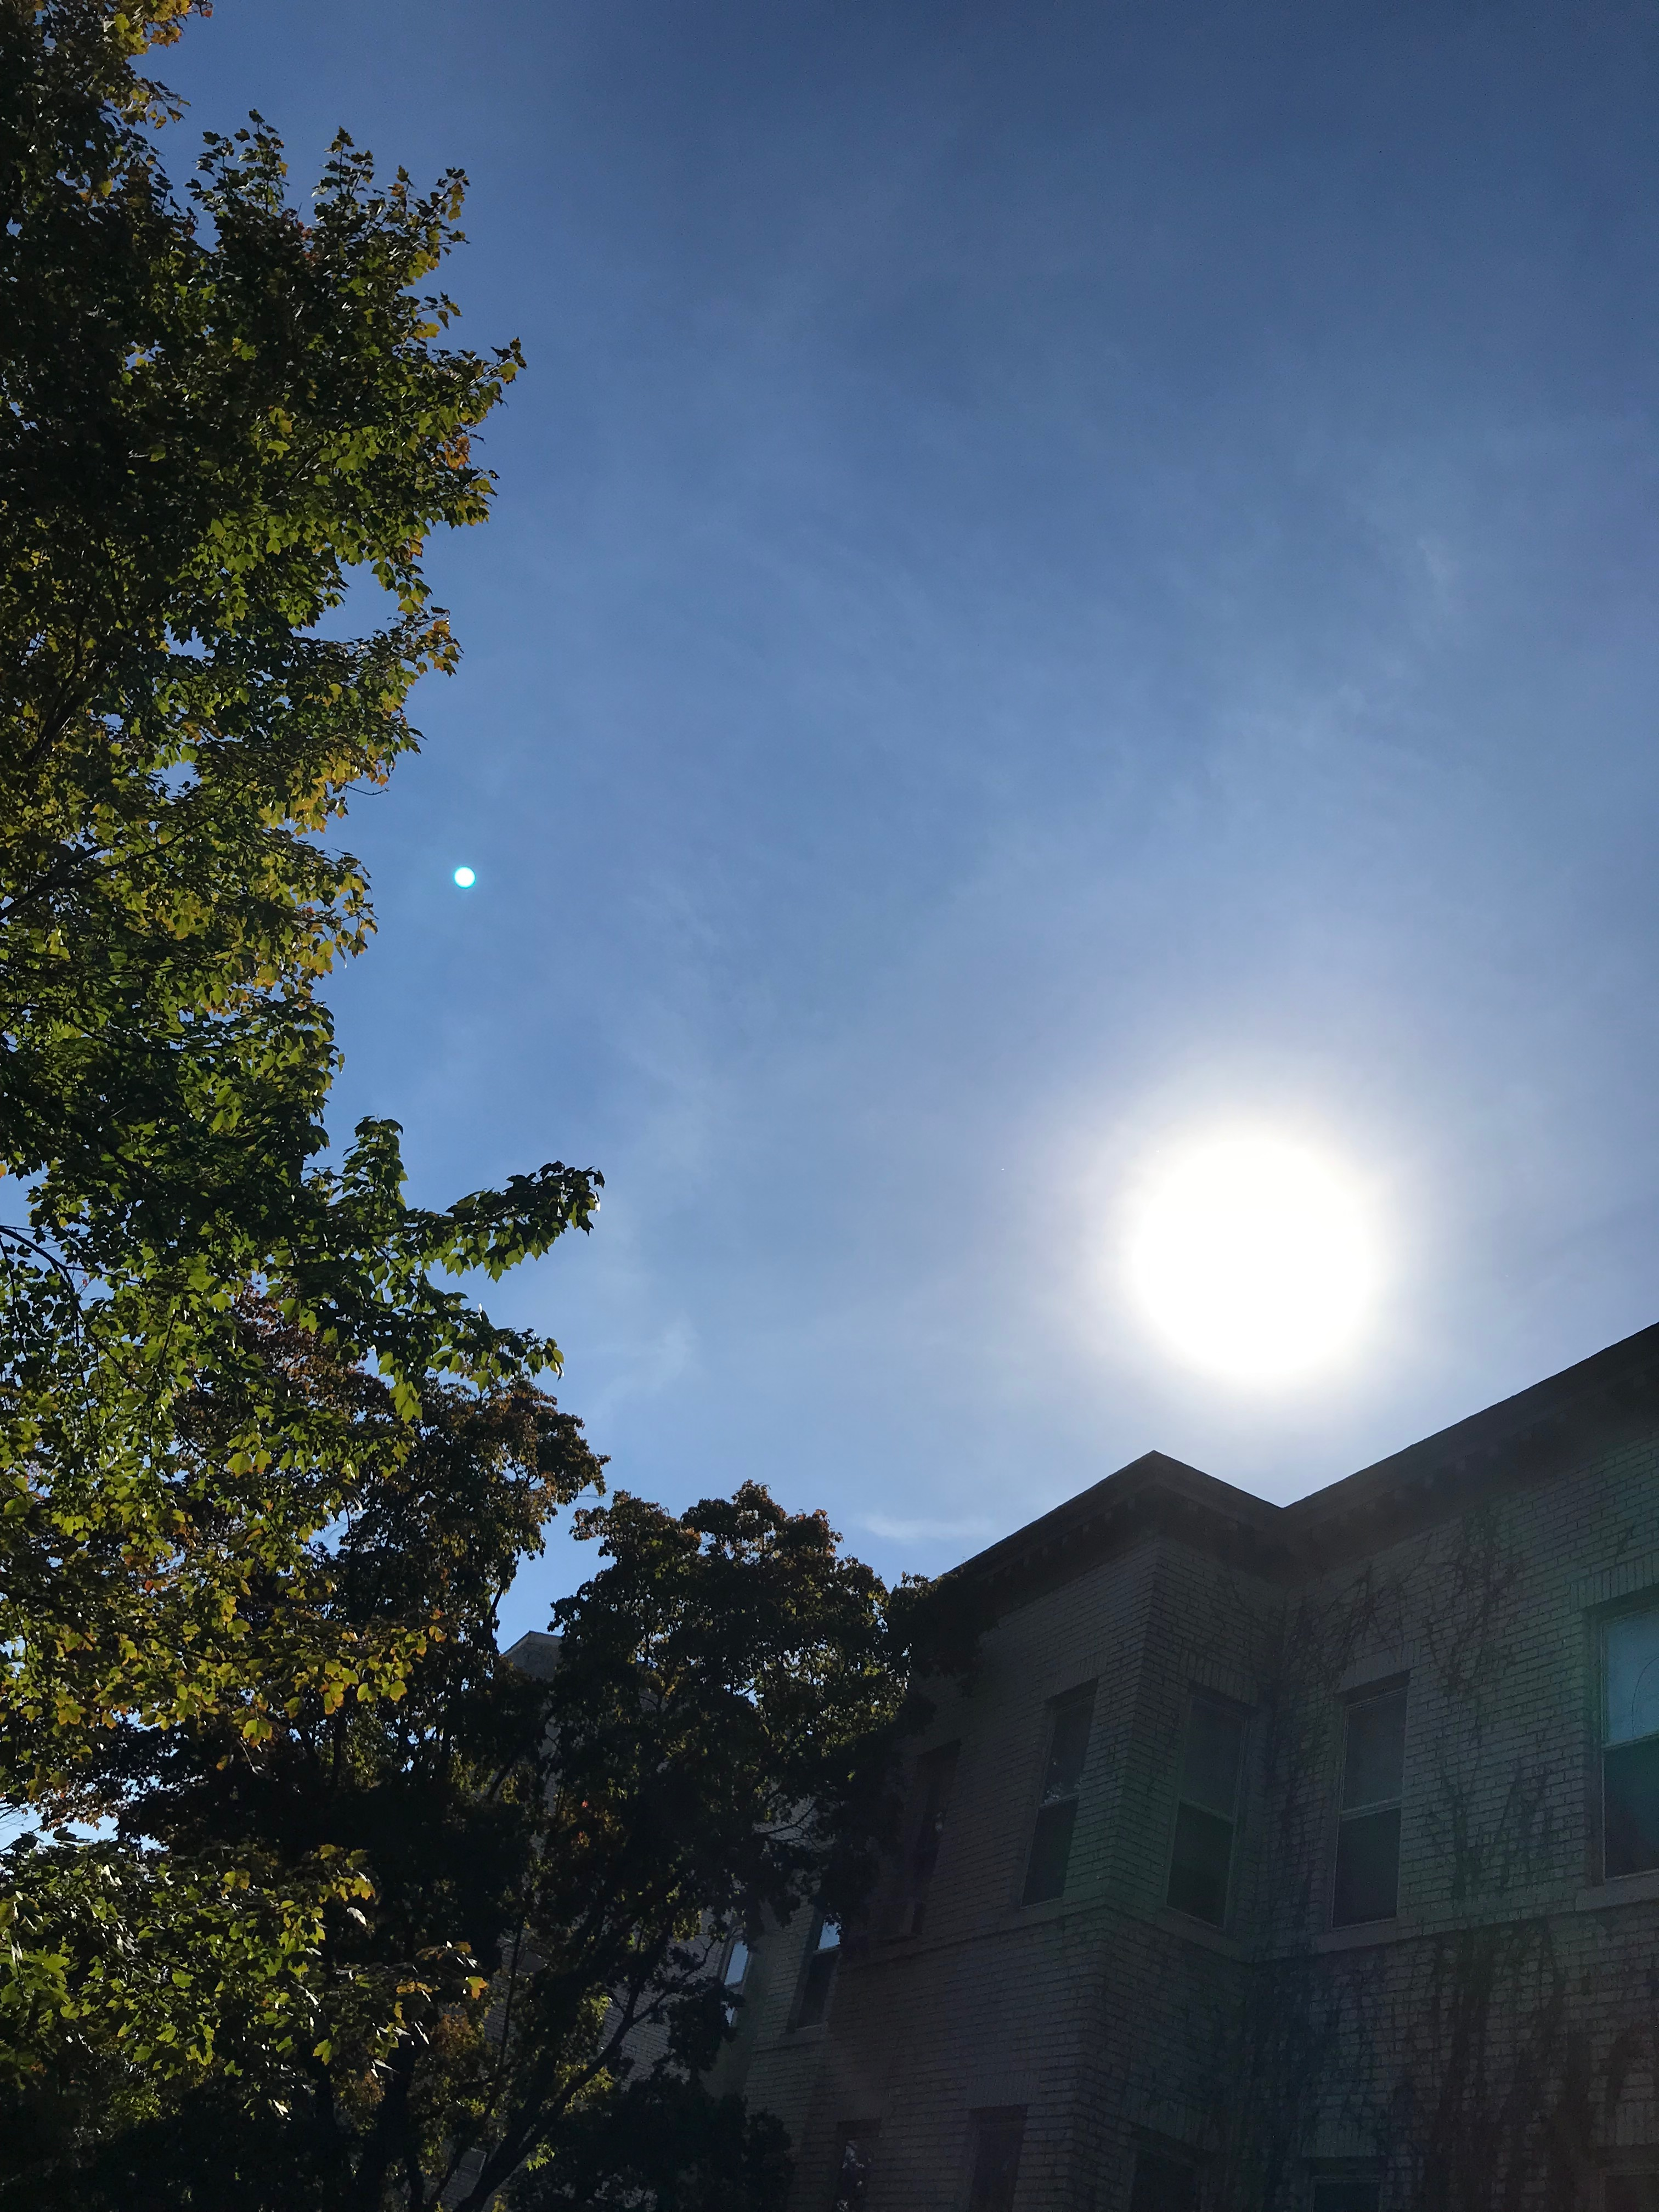flare: (451, 864, 477, 890)
